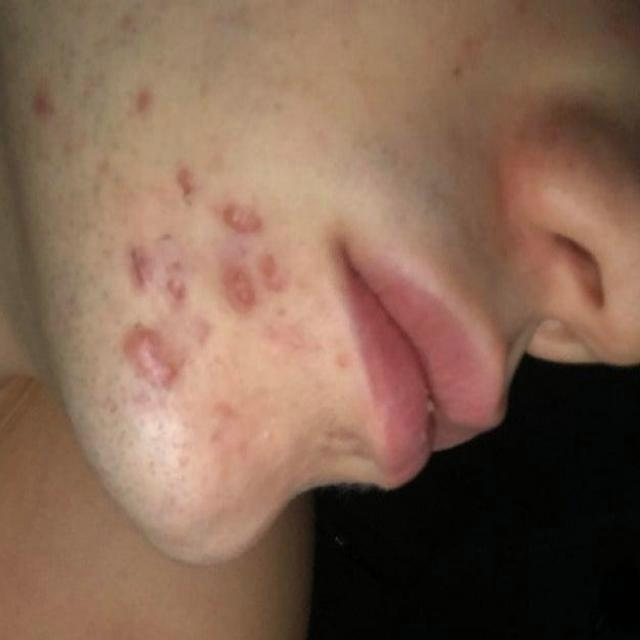Pimples: (123, 319, 182, 394), (221, 192, 263, 235), (125, 236, 155, 290), (225, 264, 257, 312), (264, 248, 290, 292), (172, 164, 198, 206), (34, 78, 52, 118), (166, 274, 186, 301), (136, 82, 154, 111)
